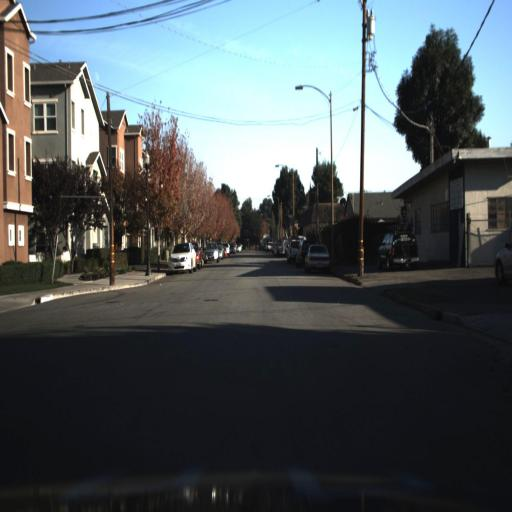car: (378, 221, 418, 267), (164, 239, 198, 274), (303, 239, 333, 275), (168, 239, 196, 273), (200, 240, 221, 266)
